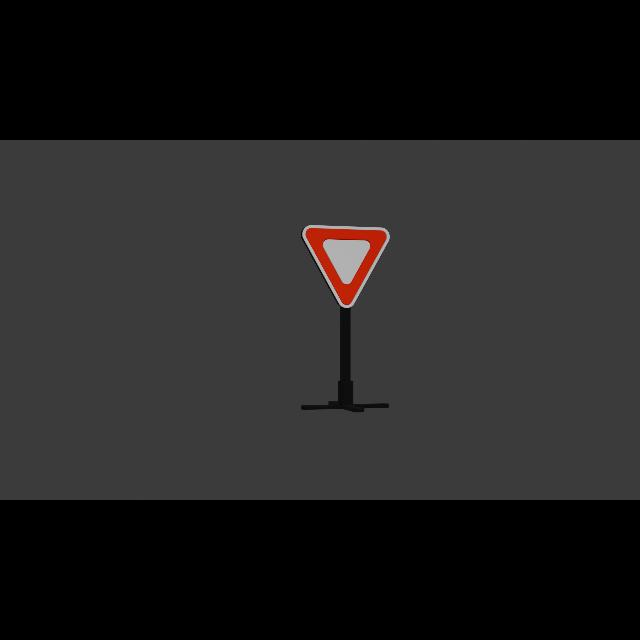sign_yield: (303, 225, 391, 308)
